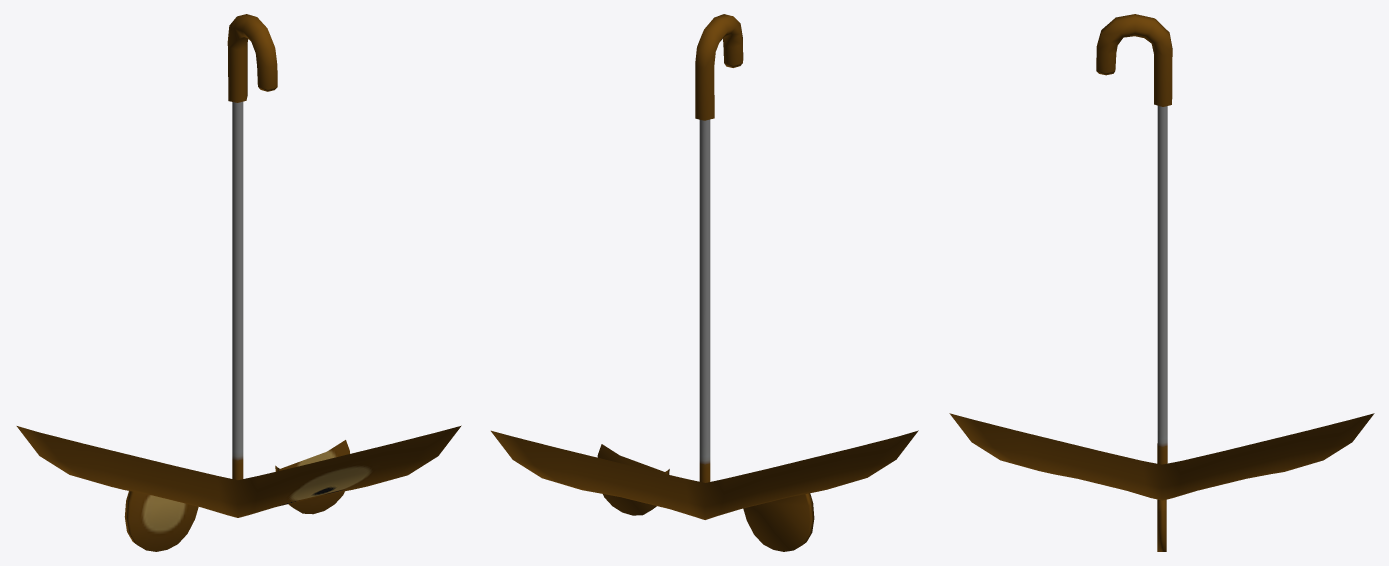
The model's file is UmbrellaBear0.glb.
3 views of the same model, side by side, from view 1: azimuth 30°, elevation 25°; view 2: azimuth 150°, elevation 25°; view 3: azimuth 270°, elevation 25° (orthographic). The views are drawn at different scales.
Parts seen in each view (by area): view 1: Eye__mUmbrella; view 2: Eye__mUmbrella; view 3: Eye__mUmbrella.
Boxes of the visible parts, x1,y1,x2,y2 form: Eye__mUmbrella: (16, 14, 461, 551); Eye__mUmbrella: (491, 14, 918, 551); Eye__mUmbrella: (949, 14, 1374, 551).
Size of the model in its own units: 15.33 by 17.24 by 13.39.
Materials: 1 (1 with a texture image).
